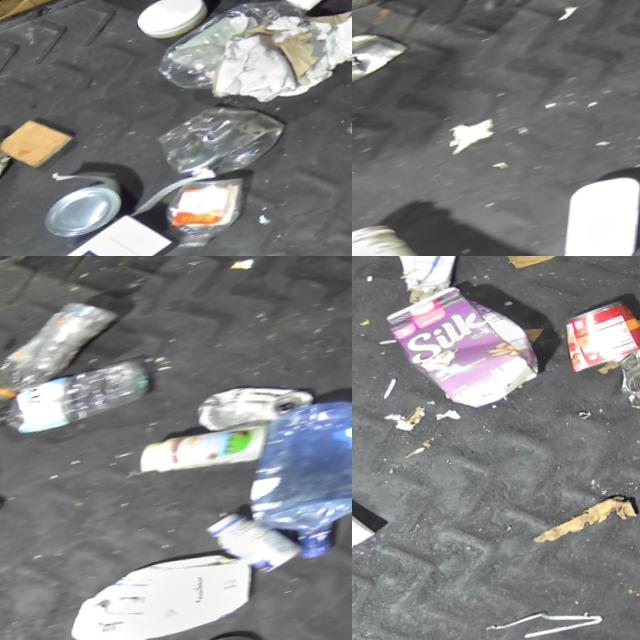can: (187, 366, 317, 446), (553, 297, 640, 377), (34, 176, 127, 245), (352, 20, 413, 94), (606, 337, 640, 410)
milk_jug: (52, 536, 261, 640)
non_white_jug: (381, 269, 547, 428)
plastic_bottle: (0, 287, 133, 408), (0, 351, 155, 449)
